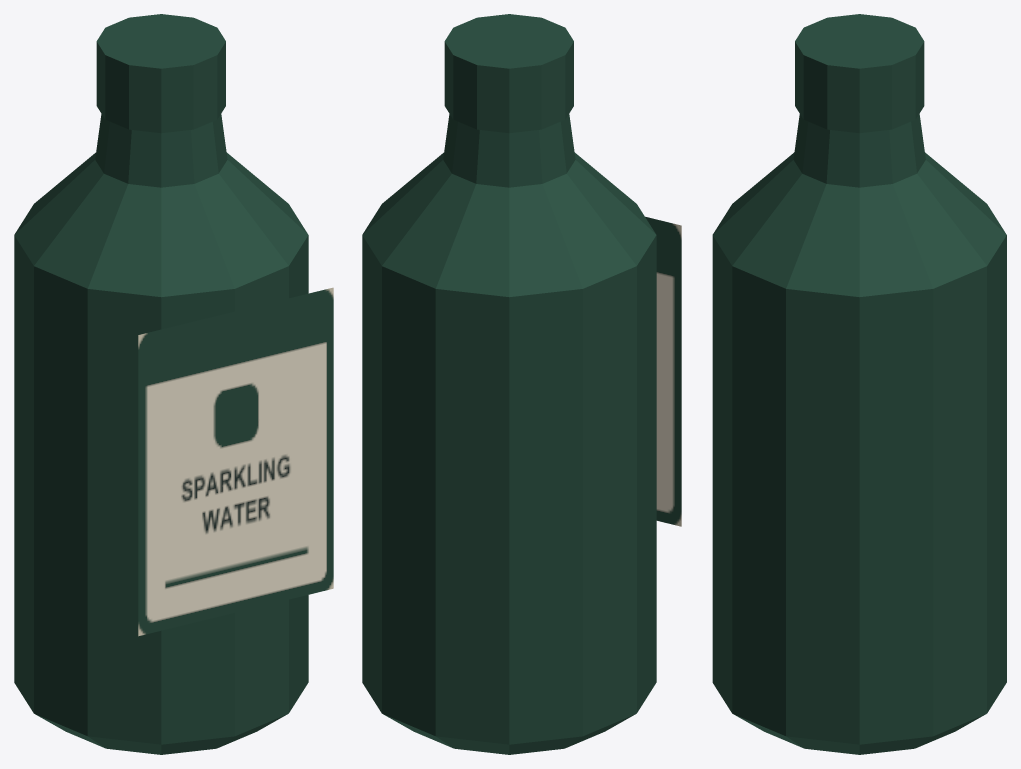
Rendered from sparkling_water.fbx.
The picture shows the model from 3 angles, left to right: view 1: azimuth 30°, elevation 25°; view 2: azimuth 150°, elevation 25°; view 3: azimuth 270°, elevation 25°; orthographic projection.
Parts seen in each view (by area): view 1: sparkling_water; view 2: sparkling_water; view 3: sparkling_water.
Boxes of the visible parts, x1,y1,x2,y2 form: sparkling_water: [14, 14, 333, 754]; sparkling_water: [362, 14, 681, 754]; sparkling_water: [712, 14, 1006, 754].
Bounding box in the file's own units: 12.4 × 31 × 12.5.
